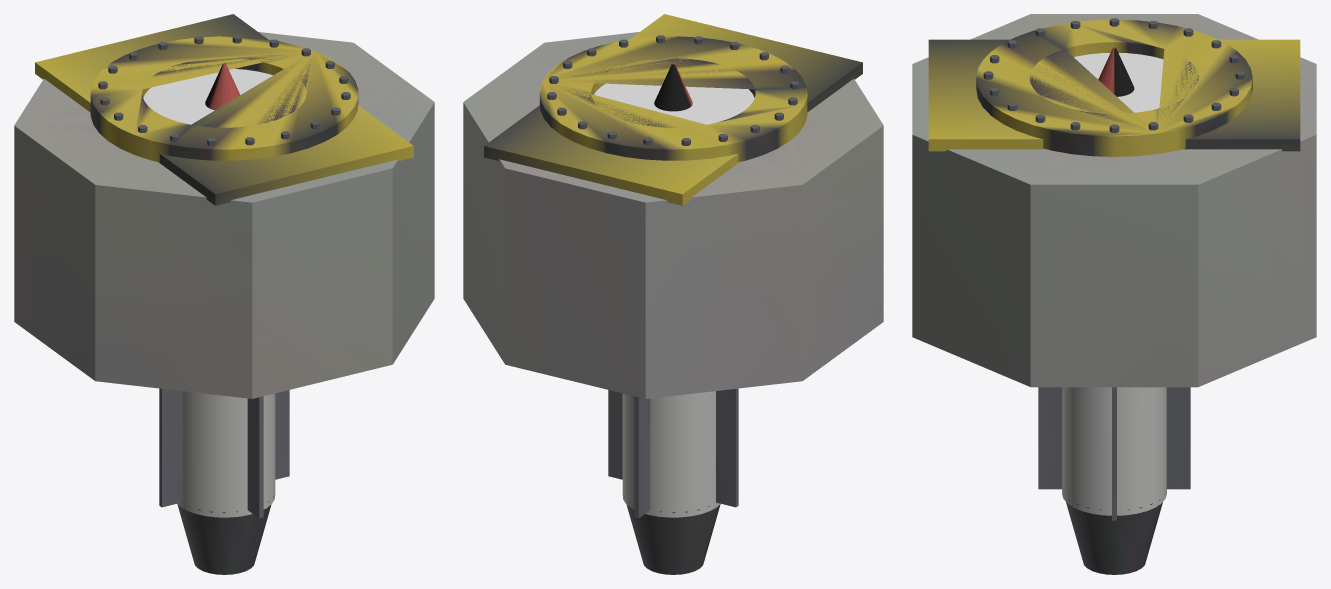
File: BigMissile.fbx
The picture shows the model from 3 angles, left to right: view 1: azimuth 30°, elevation 25°; view 2: azimuth 150°, elevation 25°; view 3: azimuth 270°, elevation 25°; orthographic projection. The views are drawn at different scales.
Parts seen in each view (by area): view 1: MissileSilo, Missile, Cutout; view 2: MissileSilo, Missile, Cutout; view 3: MissileSilo, Missile, Cutout.
Boxes of the visible parts, <box> form: MissileSilo: <box>14,14,434,398</box>; Missile: <box>159,63,289,574</box>; Cutout: <box>143,68,272,124</box>; MissileSilo: <box>463,14,883,398</box>; Missile: <box>608,63,738,574</box>; Cutout: <box>594,83,754,124</box>; MissileSilo: <box>912,14,1316,387</box>; Missile: <box>1038,47,1190,574</box>; Cutout: <box>1074,53,1163,112</box>.
Size of the model in its own units: 4.62 by 6.47 by 4.62.
